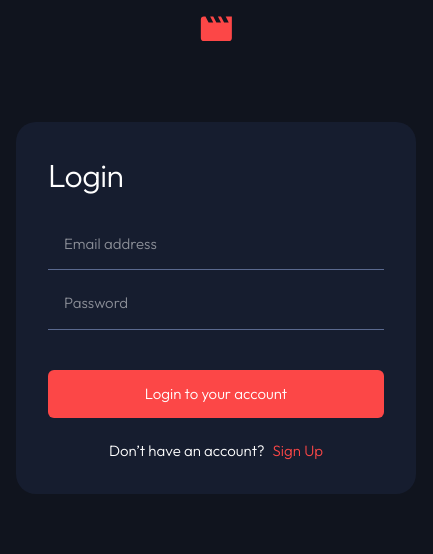
Test: LoginPage › shows INVALID_CREDENTIALS, clears only the password
The image size is (433, 554).
Expected: the button "Login to your account" is shown, [48,370,384,418]
Type "qa1@example.com" into the field labelled "Email address". click: (216, 244)
box: [64,235,368,253]
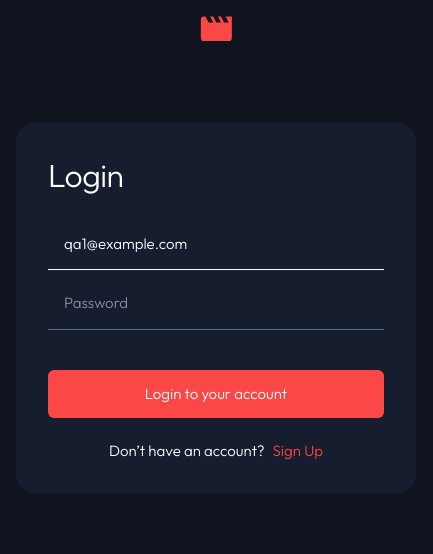
Type "wrong-pass" into the password field labelled "Password". click: (216, 304)
box: [64,294,368,313]
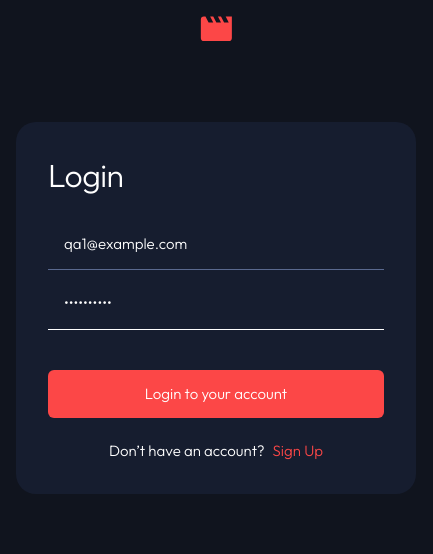
Click the button "Login to your account". click: (216, 394)
box: [48,370,384,418]
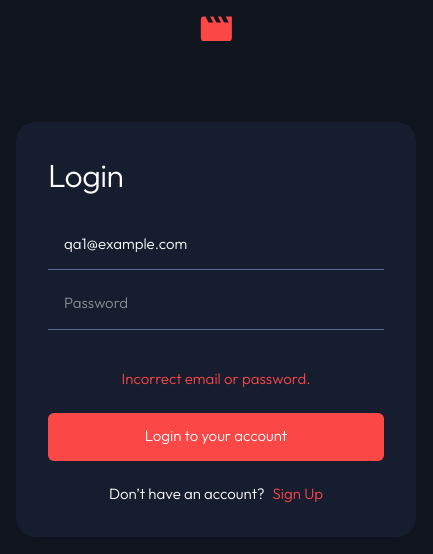
Now the message reads "Incorrect email or password.", box [122,369,310,388]
Now the password field labelled "Password" is empty, box [64,294,368,313]
